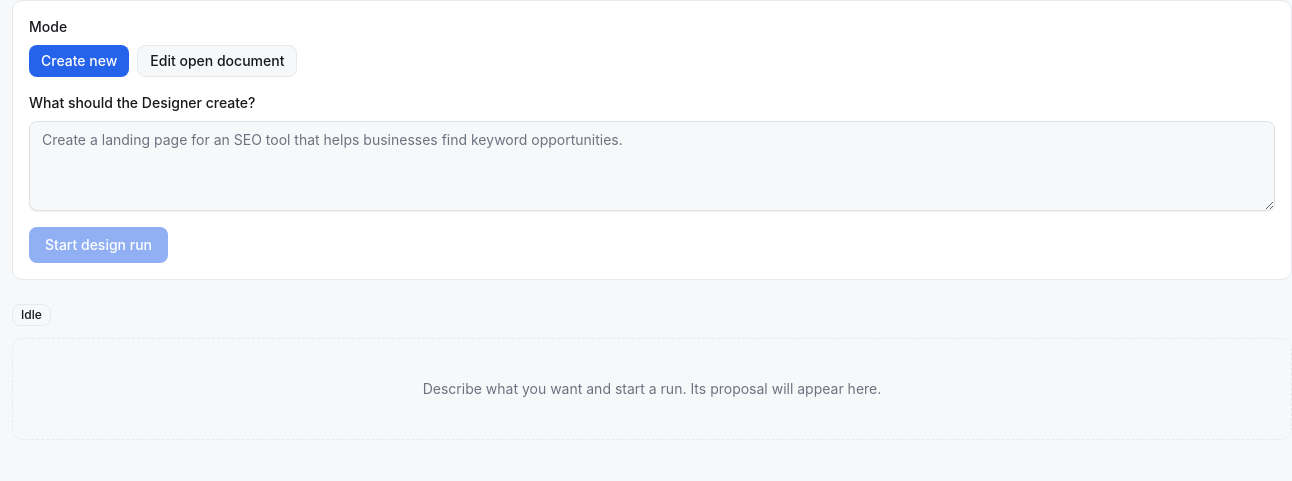
it: Designer › shows a failed run and allows starting over
Replace the text in the text box labelled "What should the Designer create?" with "Create a landing page" at (652, 166), box [29,121,1275,211]
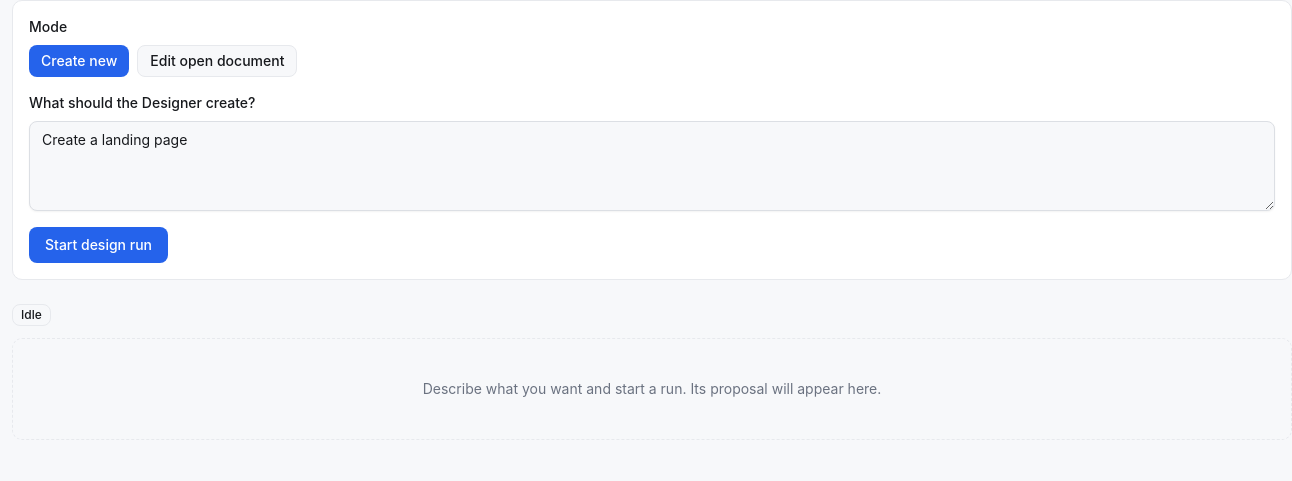
Click the button "Start design run" at (98, 245), box [29,227,168,263]
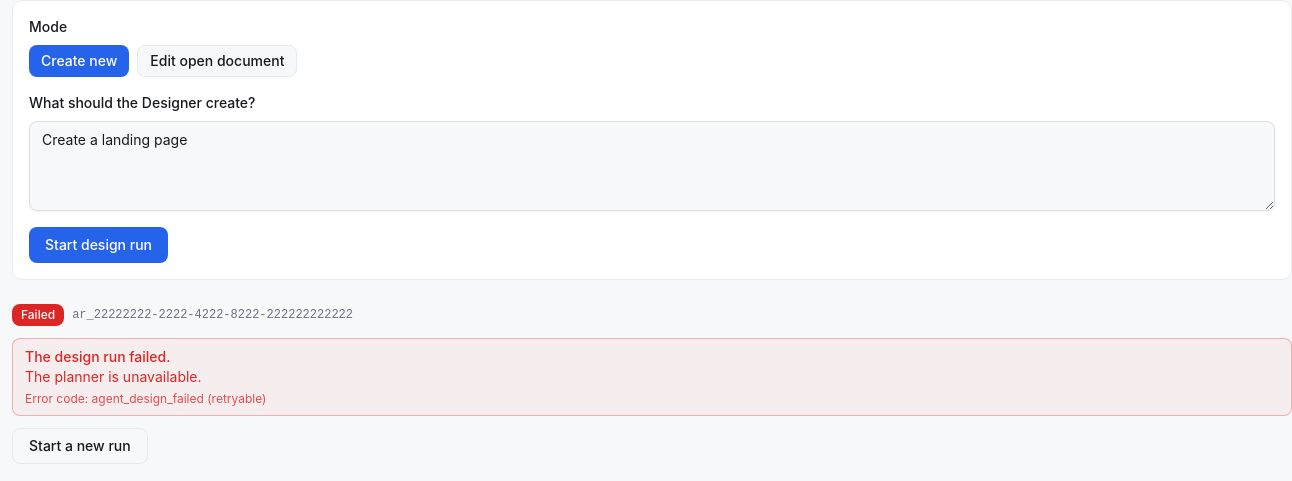
Expected: the text "The design run failed." is shown, [25,348,170,365]
Expected: the text "The planner is unavailable." is shown, [25,368,202,385]
Expected: the text "Error code: agent_design_failed (retryable)" is shown, [25,391,266,406]
Click the button "Start a new run" at (80, 446), box [12,428,148,464]
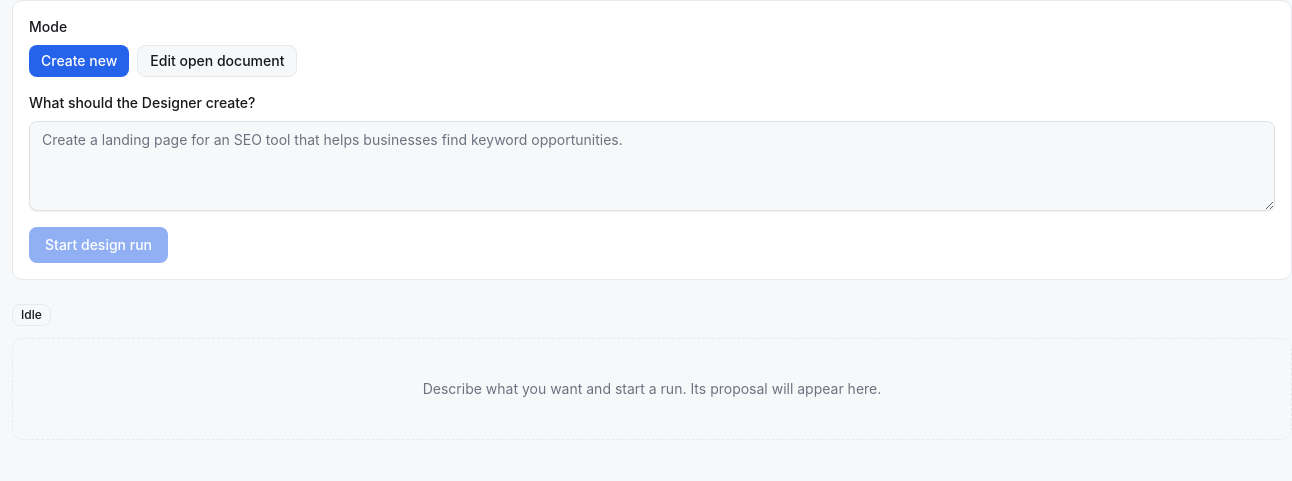
Expected: the text "Describe what you want and start a run. Its proposal will appear here." is shown, [12,338,1291,440]
